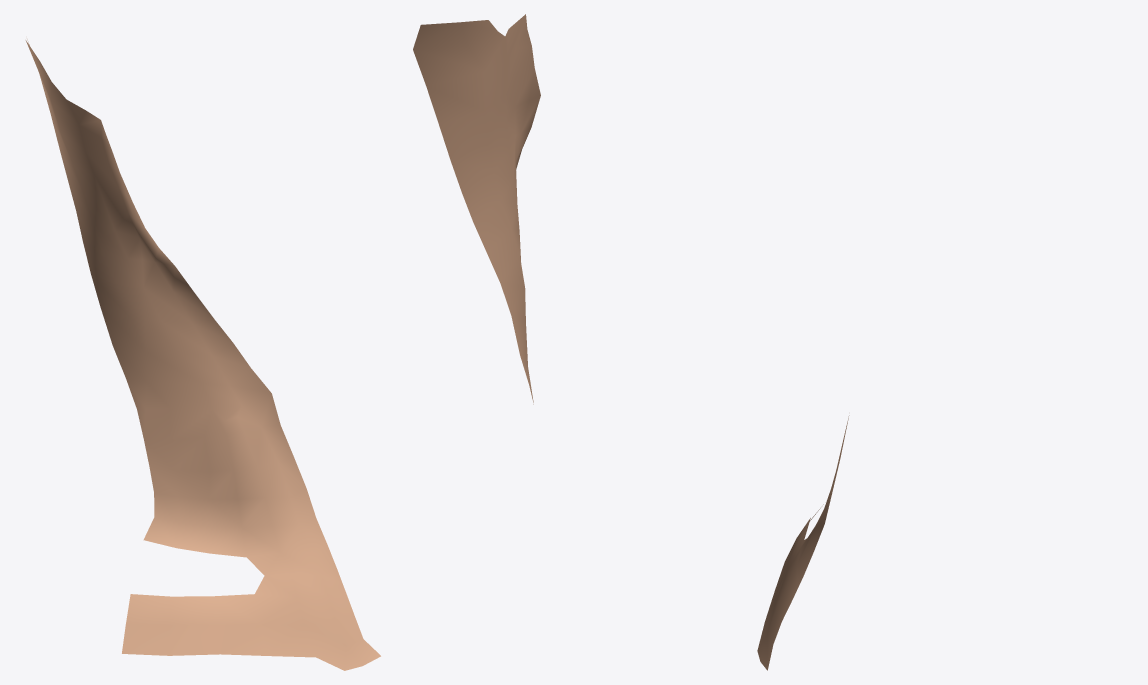
Rendered from sternocleidomastoid-region-r.glb.
3 views of the same model, side by side, from view 1: azimuth 30°, elevation 25°; view 2: azimuth 150°, elevation 25°; view 3: azimuth 270°, elevation 25° (orthographic). The views are drawn at different scales.
Parts seen in each view (by area): view 1: Sternocleidomastoid region.r; view 2: Sternocleidomastoid region.r; view 3: Sternocleidomastoid region.r.
Boxes of the visible parts, x1,y1,x2,y2 form: Sternocleidomastoid region.r: [25, 39, 380, 670]; Sternocleidomastoid region.r: [413, 14, 540, 404]; Sternocleidomastoid region.r: [757, 415, 849, 670].
Size of the model in its own units: 0.07 by 0.1606 by 0.0967.
